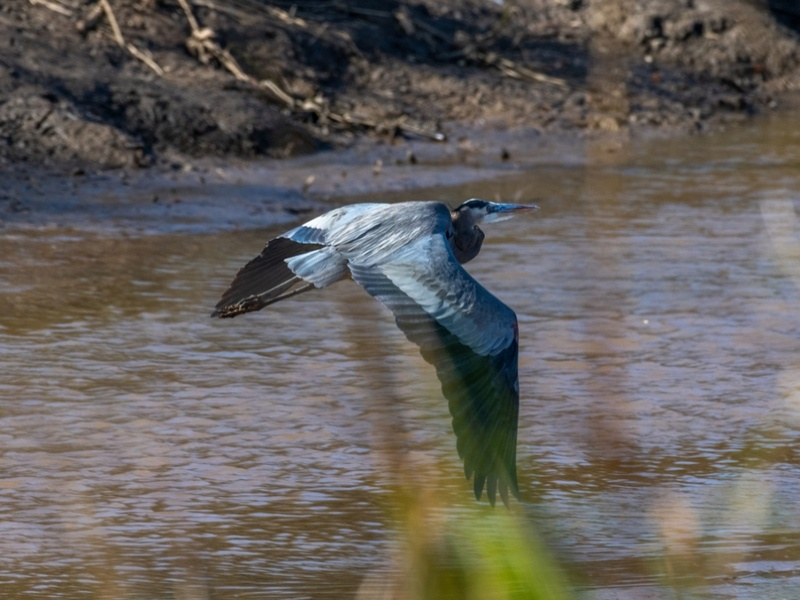heron: (209, 190, 538, 514)
